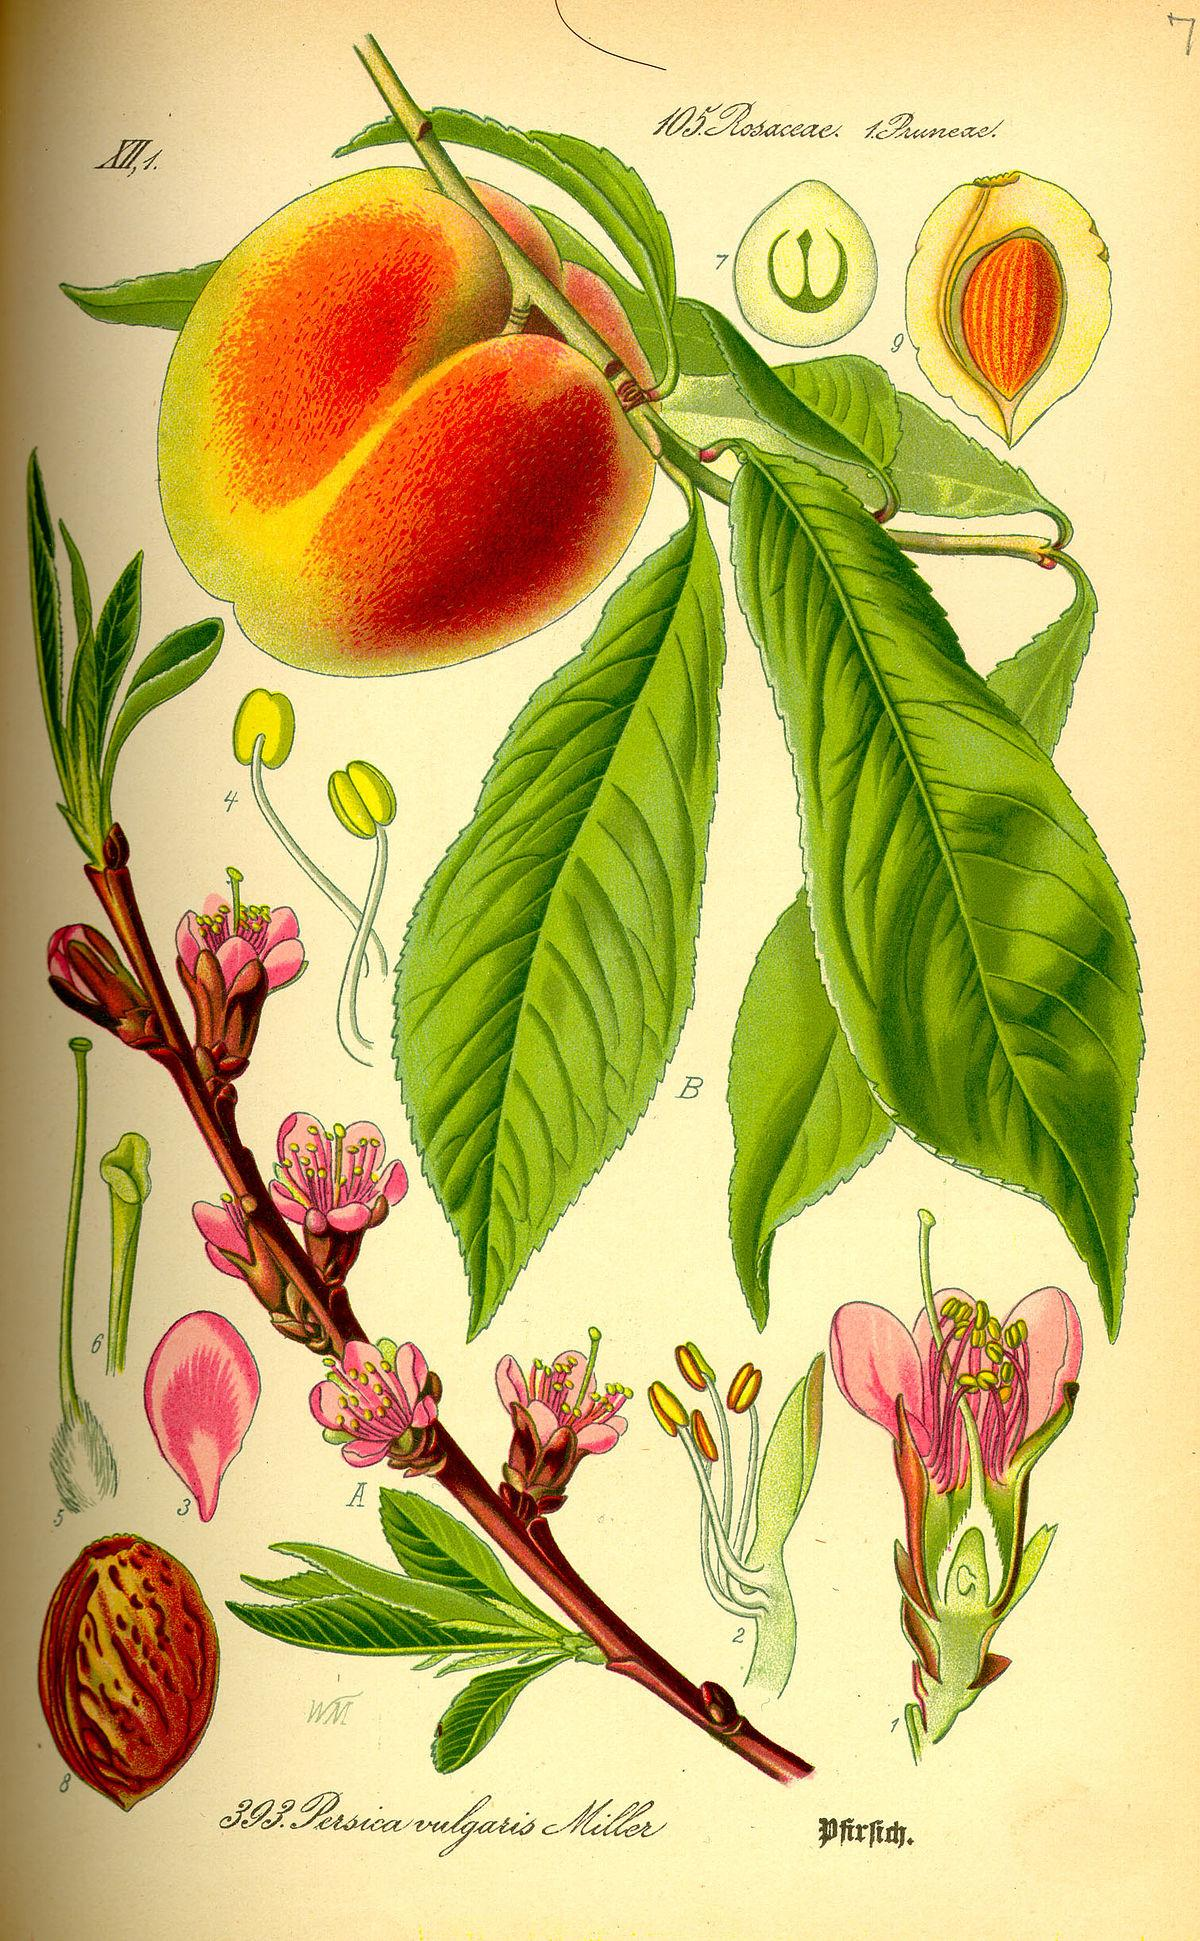Peach leaf: (705, 426, 1152, 1339), (381, 478, 733, 1355)
